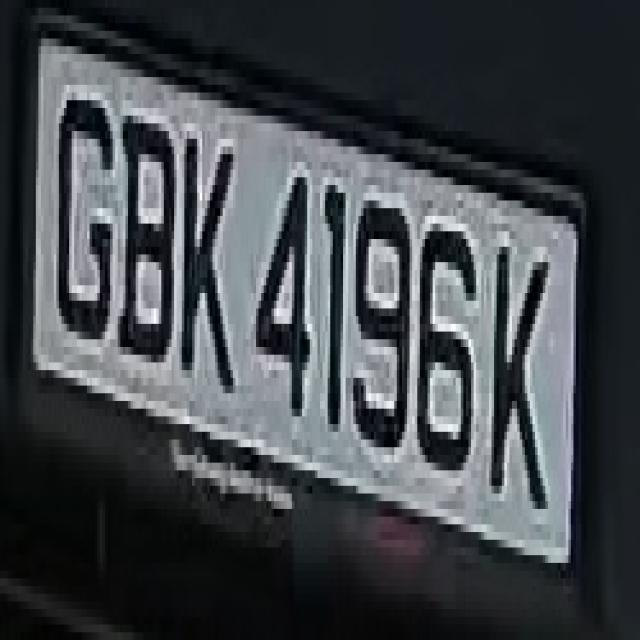1: (320, 131, 356, 478)
4: (253, 123, 315, 432)
6: (415, 185, 481, 501)
9: (358, 154, 418, 463)
B: (123, 77, 179, 393)
G: (54, 54, 120, 362)
K: (486, 208, 546, 555), (179, 92, 241, 416)
